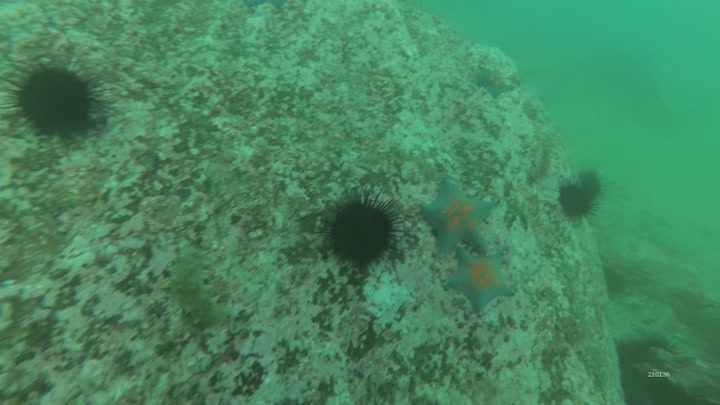echinus: (1, 51, 115, 150), (313, 191, 411, 278), (555, 184, 600, 227), (579, 167, 608, 204)
holothurian: (165, 251, 233, 333)
starfish: (416, 175, 501, 259), (444, 240, 521, 317), (474, 65, 518, 101)
